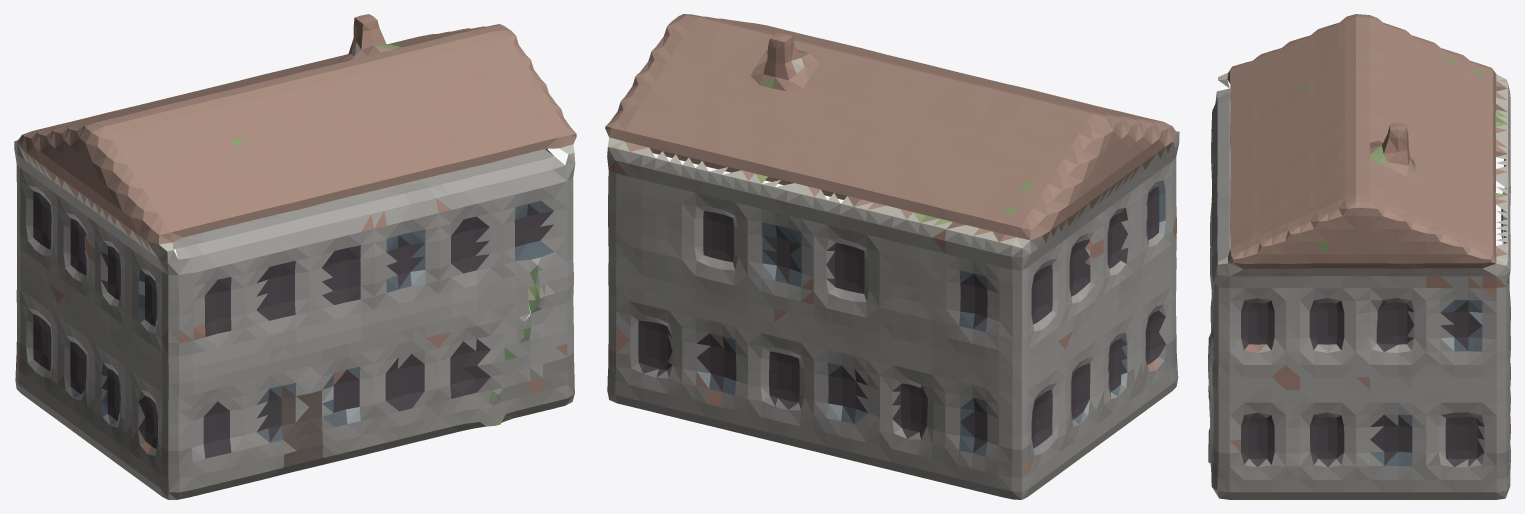
The model's file is prop_bld_house_w3_a.glb.
The picture shows the model from 3 angles, left to right: view 1: azimuth 30°, elevation 25°; view 2: azimuth 150°, elevation 25°; view 3: azimuth 270°, elevation 25°; orthographic projection. The views are drawn at different scales.
Visible parts, largest first — view 1: idle_00; view 2: idle_00; view 3: idle_00.
Part boxes in pixels (x1,y1,x2,y2): idle_00: (14,14,576,499); idle_00: (605,14,1179,499); idle_00: (1208,14,1510,499).
Bounding box in the file's own units: 10.87 × 8.4 × 7.08.
